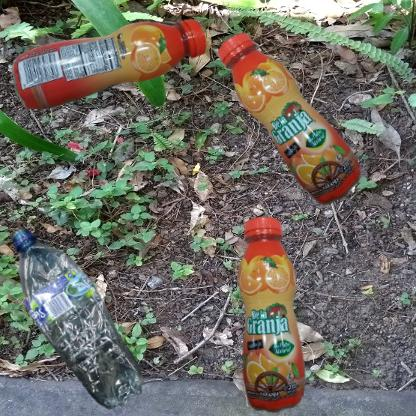botella: (213, 10, 405, 278), (10, 213, 157, 416), (213, 213, 344, 416), (10, 10, 213, 120)
